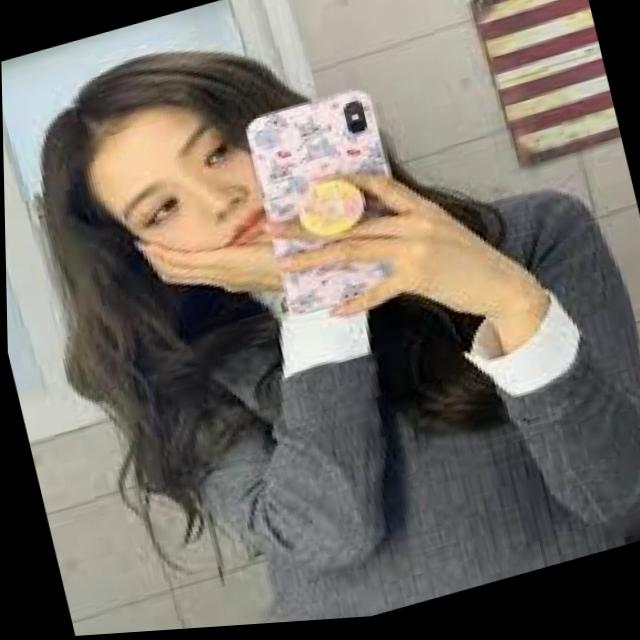Smartphone: (238, 83, 422, 338)
